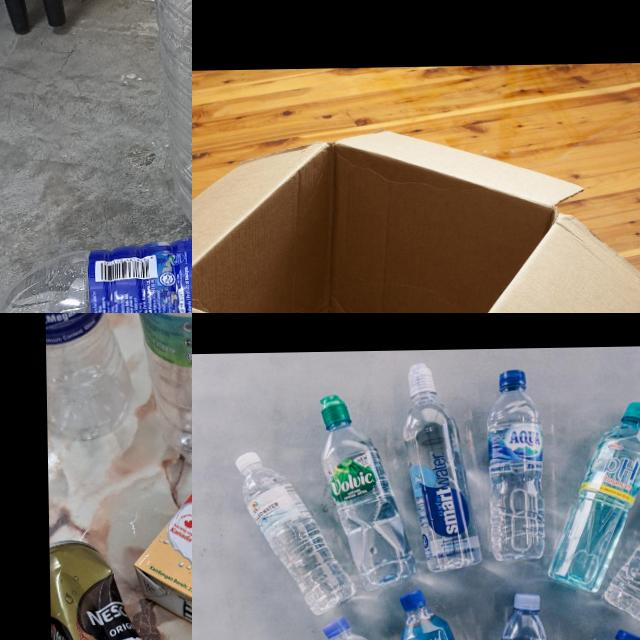caixinha: (131, 410, 192, 637)
garrafa plástica: (0, 207, 192, 313), (242, 462, 357, 618), (542, 420, 640, 595), (316, 420, 416, 589), (398, 392, 483, 574), (44, 313, 132, 442), (486, 388, 548, 562), (136, 313, 192, 464), (600, 454, 640, 623), (399, 605, 481, 640), (485, 607, 550, 640)
lata: (48, 534, 179, 640)
papelão: (192, 124, 640, 313)
tampa plástica: (406, 363, 436, 400), (322, 402, 352, 428), (233, 448, 263, 473), (510, 589, 541, 613), (398, 586, 426, 610), (322, 614, 350, 638), (498, 366, 526, 389), (620, 398, 640, 427), (617, 625, 640, 640)
